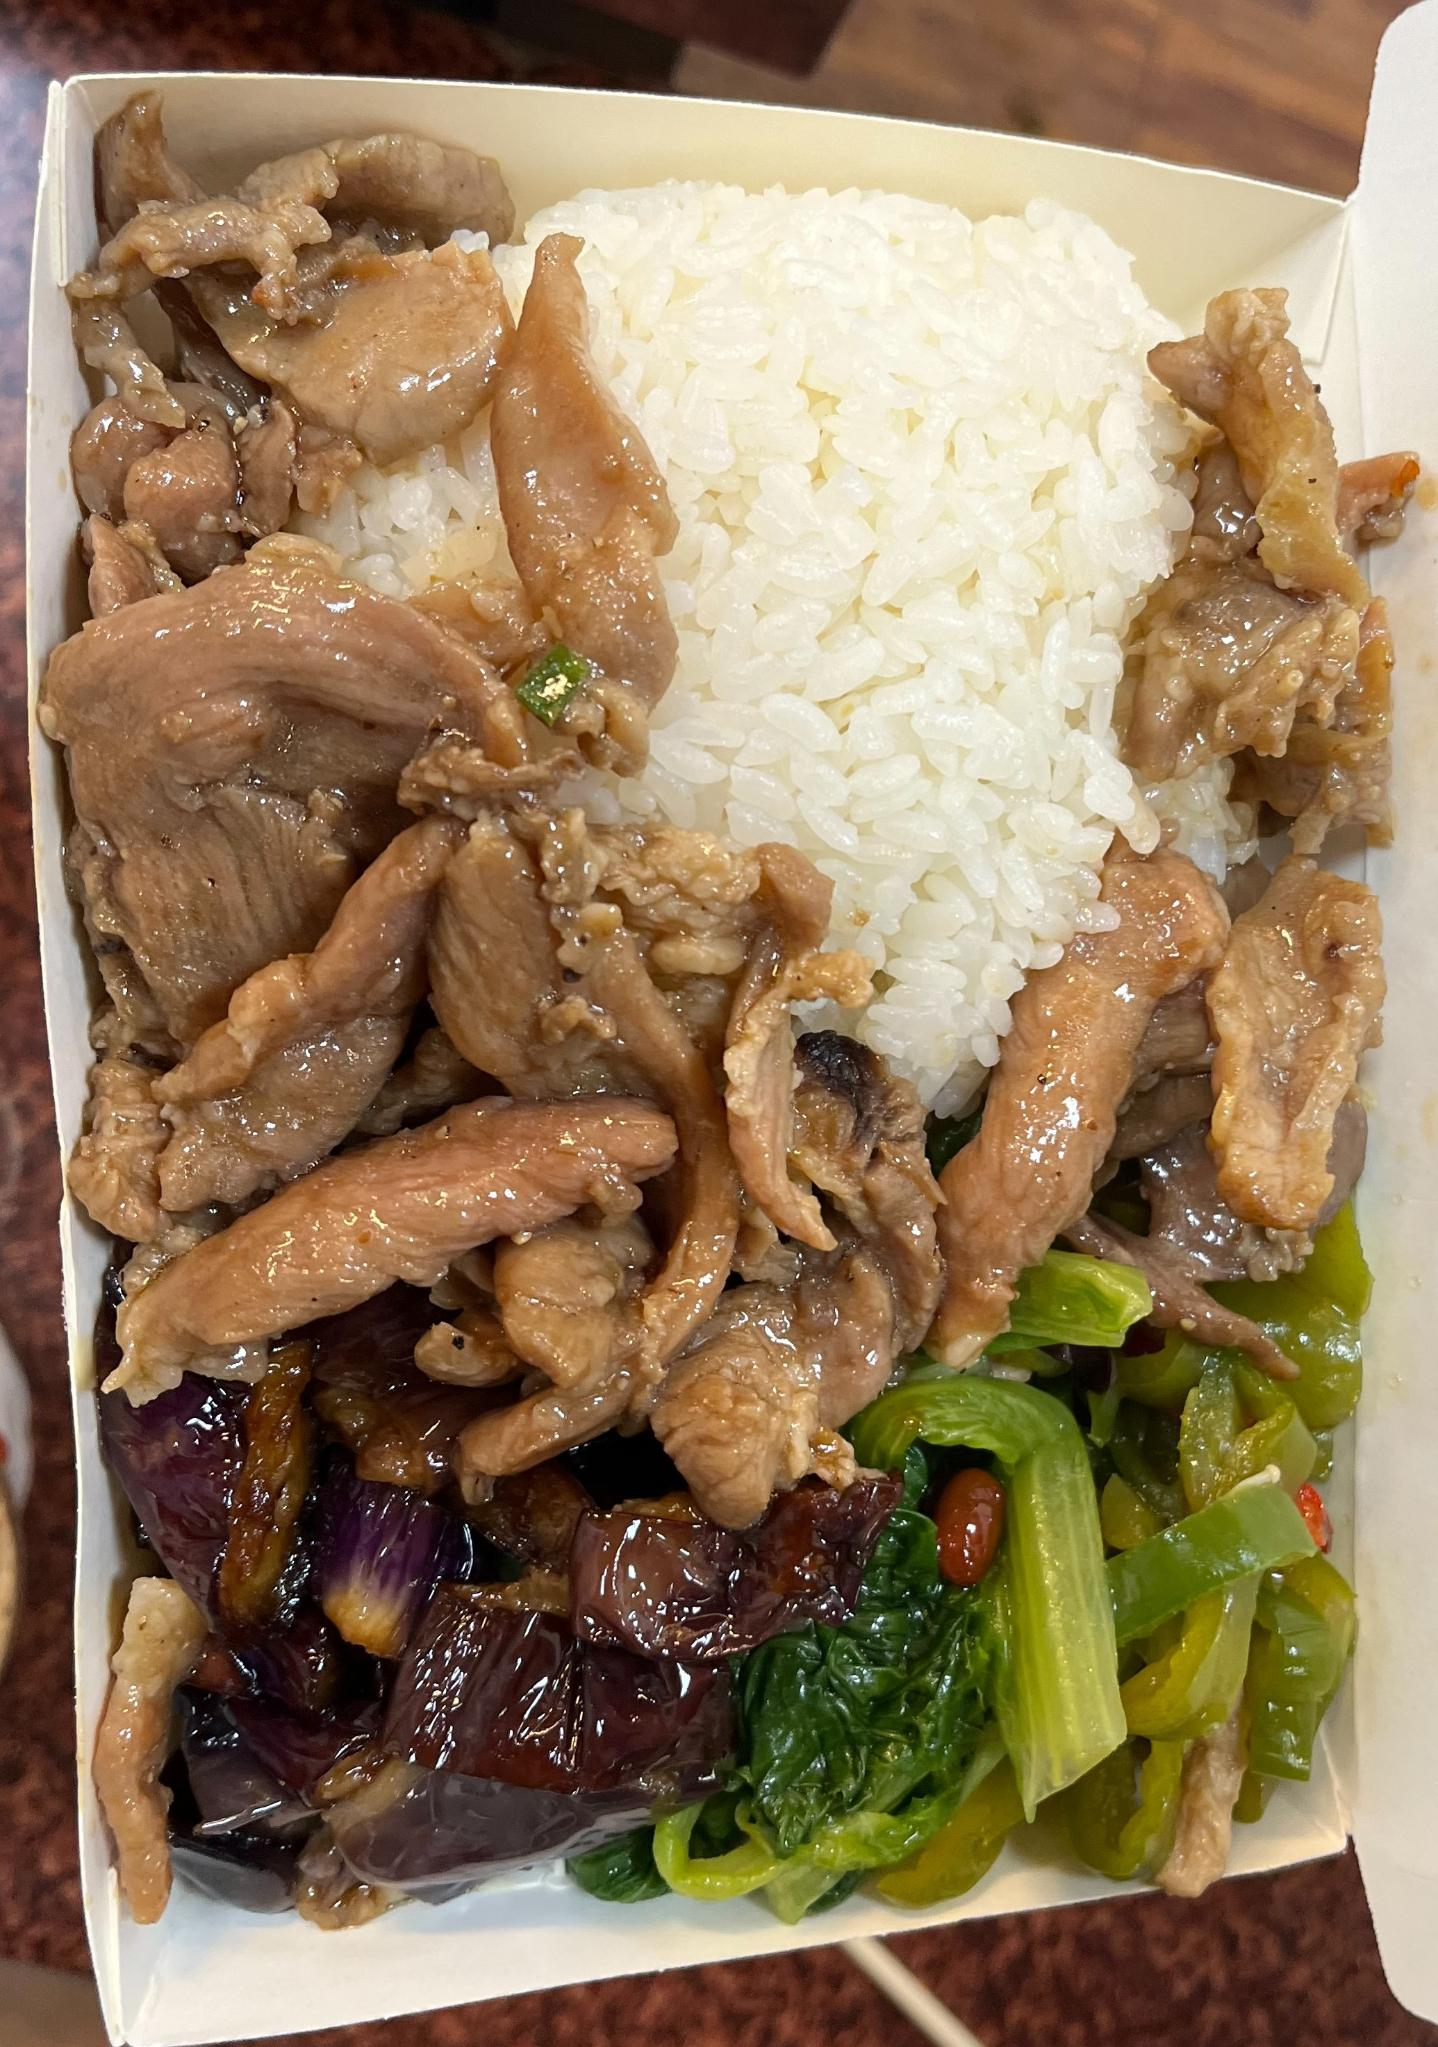big grilled chicken leg: (14, 25, 1432, 2036)
big herbal chicken leg: (419, 191, 1268, 1036)
braised fish fillet: (735, 1261, 1376, 1891), (129, 1328, 806, 1871)
braised pork: (59, 95, 1385, 1414)
